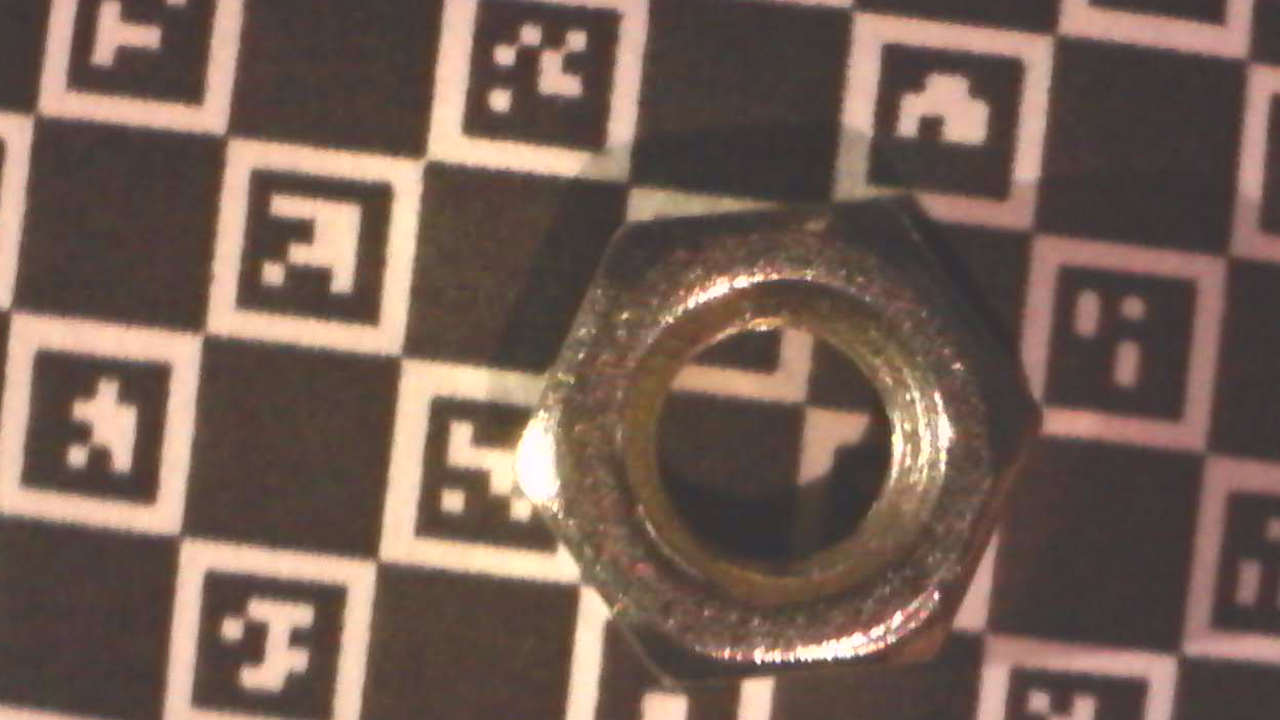Bolt: (508, 195, 1053, 687)
